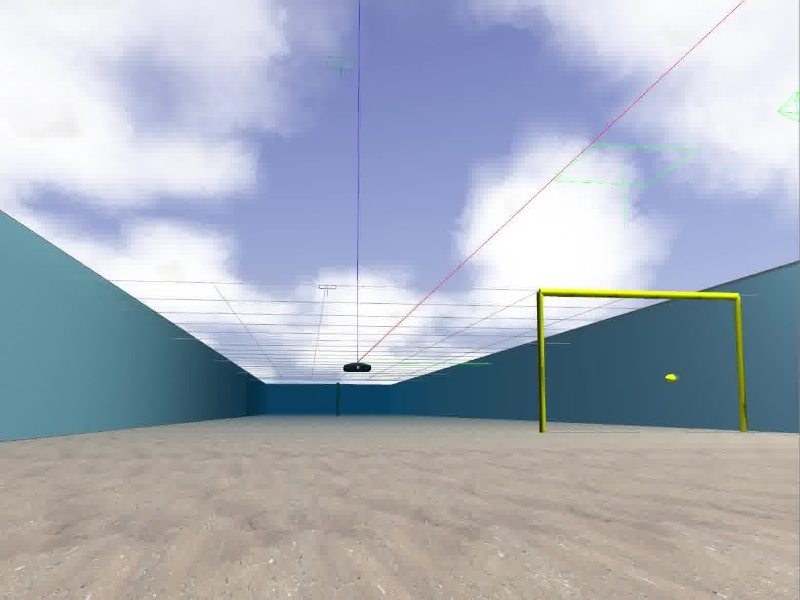gate: (534, 287, 748, 434)
